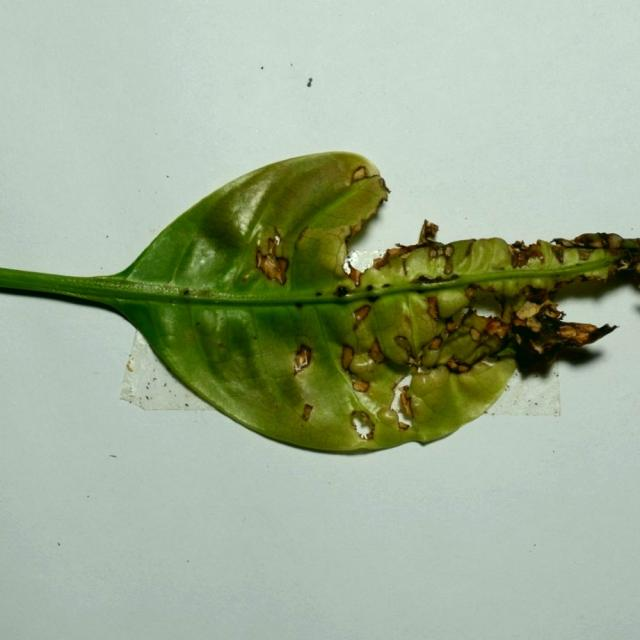Anthracnose: (549, 320, 613, 347), (254, 236, 288, 284), (291, 339, 317, 383), (510, 241, 545, 268), (474, 290, 506, 319), (405, 392, 430, 423), (365, 195, 387, 225), (350, 410, 374, 437), (414, 272, 462, 285), (393, 335, 414, 361), (482, 318, 509, 338), (376, 408, 399, 431), (419, 219, 440, 244), (399, 389, 414, 419), (573, 233, 605, 247), (294, 225, 311, 250), (369, 339, 385, 365), (352, 304, 371, 325), (541, 303, 564, 320), (445, 359, 471, 373), (426, 296, 441, 320), (528, 337, 548, 355), (341, 344, 354, 371), (415, 360, 442, 373), (347, 264, 362, 287), (372, 253, 392, 270), (351, 165, 369, 182), (386, 246, 407, 259), (351, 379, 370, 393), (607, 247, 629, 259), (512, 315, 532, 328), (552, 238, 578, 248), (581, 273, 607, 283), (464, 242, 476, 262), (428, 336, 443, 351), (378, 177, 391, 194), (465, 286, 480, 300), (301, 404, 313, 421), (511, 240, 527, 252), (273, 226, 283, 245), (446, 320, 460, 333), (350, 220, 363, 234), (577, 249, 592, 261), (617, 258, 631, 270), (632, 268, 640, 289), (469, 328, 481, 341), (336, 285, 349, 297), (443, 260, 453, 275), (401, 255, 408, 276), (255, 250, 263, 268), (391, 379, 400, 395), (445, 245, 453, 257), (126, 360, 134, 372), (241, 274, 249, 284), (217, 341, 226, 349), (612, 324, 621, 331), (365, 284, 374, 291), (182, 289, 189, 295)
Mango: (0, 152, 625, 458)
